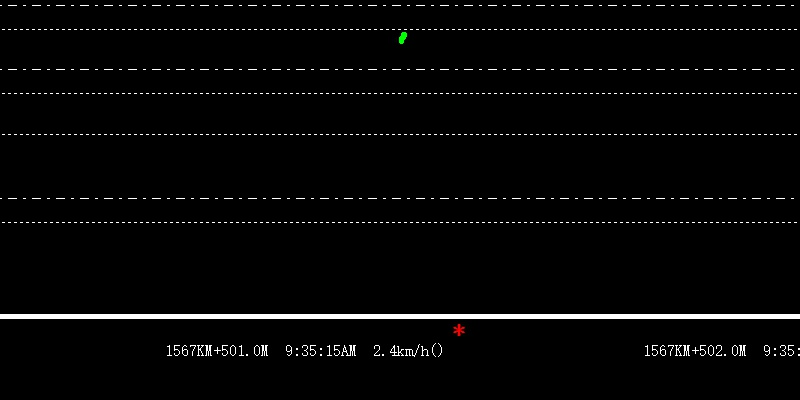face_down: (398, 23, 407, 45)
star: (451, 322, 466, 338)
